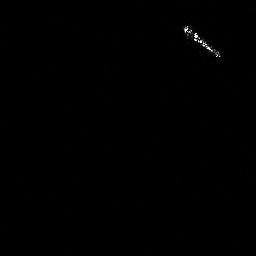ship: (182, 24, 222, 58)
